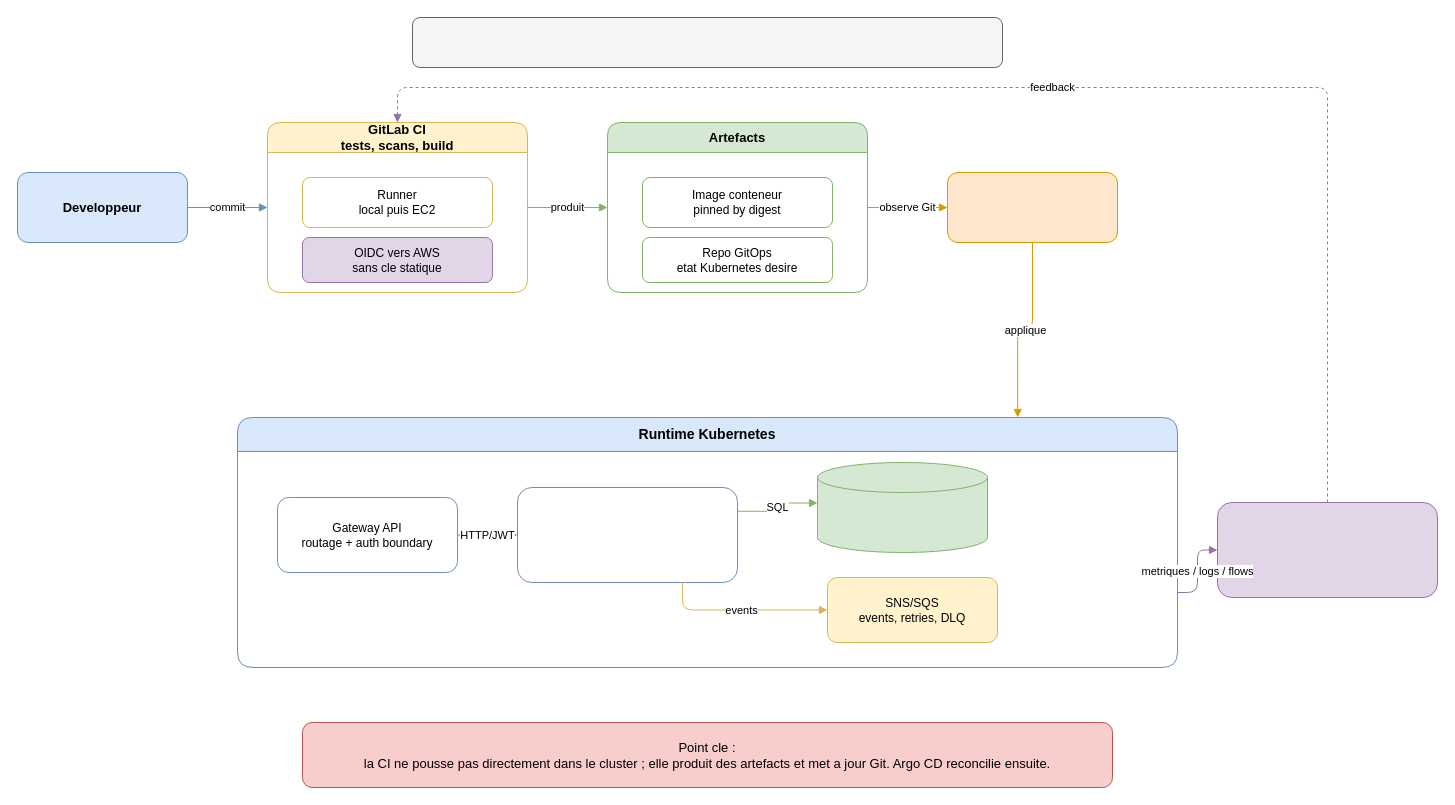
The diagram is 1455 pixels wide and 805 high, and some of its shapes have lost their labels. Here are the shapes that lost their labels. From the top down, the centre of each, then its label:
the point at 707,42: Du commit au comportement runtime
the point at 1032,207: Argo CD
the point at 902,507: RDS PostgreSQL donnees metier
the point at 627,534: Services Go catalogue, panier, commande, paiement
the point at 1327,550: Observabilite Prometheus, Loki, Grafana, Hubble
